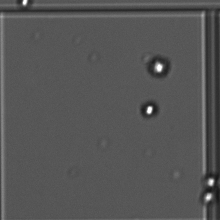Living Cell: (145, 54, 170, 78), (139, 99, 159, 118), (198, 188, 217, 206), (202, 171, 218, 189), (16, 1, 32, 10)
